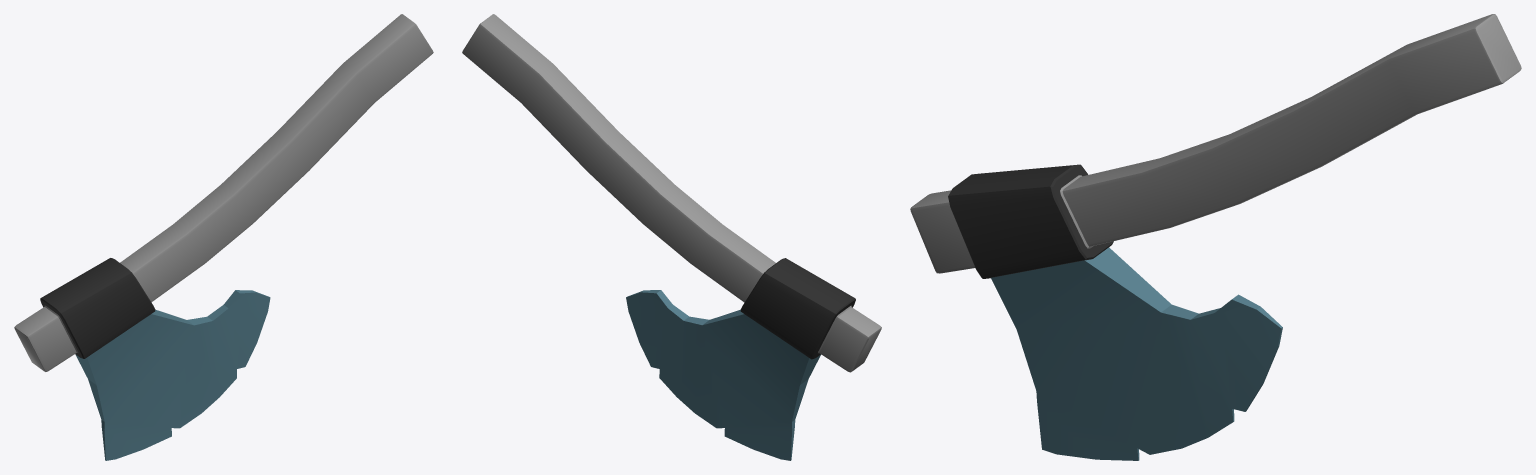
Rendered from Axe.FBX.
3 renders of one model, left to right at view 1: azimuth 30°, elevation 25°; view 2: azimuth 150°, elevation 25°; view 3: azimuth 330°, elevation 25°, orthographic. The views are drawn at different scales.
Parts seen in each view (by area): view 1: axe wood, axe_blade; view 2: axe wood, axe_blade; view 3: axe wood, axe_blade.
Part boxes in pixels (x1,y1,x2,y2): axe wood: (14, 14, 433, 371); axe_blade: (75, 290, 270, 460); axe wood: (462, 14, 881, 372); axe_blade: (626, 290, 820, 460); axe wood: (910, 14, 1521, 278); axe_blade: (991, 247, 1282, 460).
Bounding box in the file's own units: 171 × 148 × 16.87.
